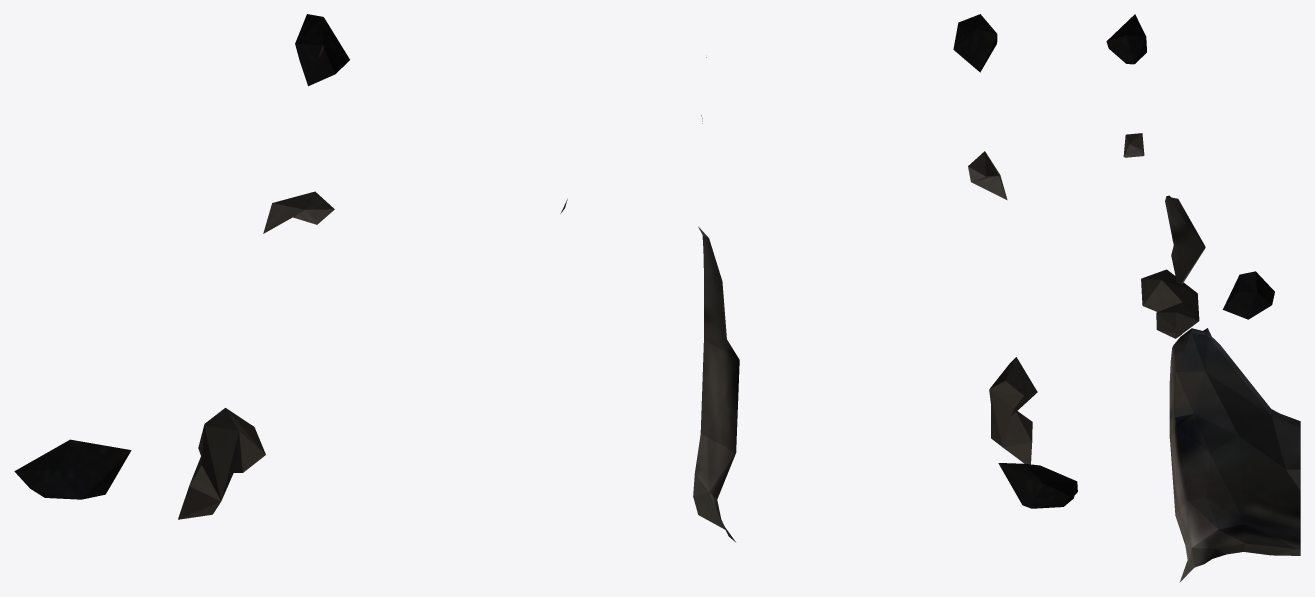
3 renders of one model, left to right at view 1: azimuth 30°, elevation 25°; view 2: azimuth 150°, elevation 25°; view 3: azimuth 270°, elevation 25°, orthographic. The views are drawn at different scales.
Size of the model in its own units: 0.277 by 0.3394 by 0.1291.
Materials: 1 (1 with a texture image).
